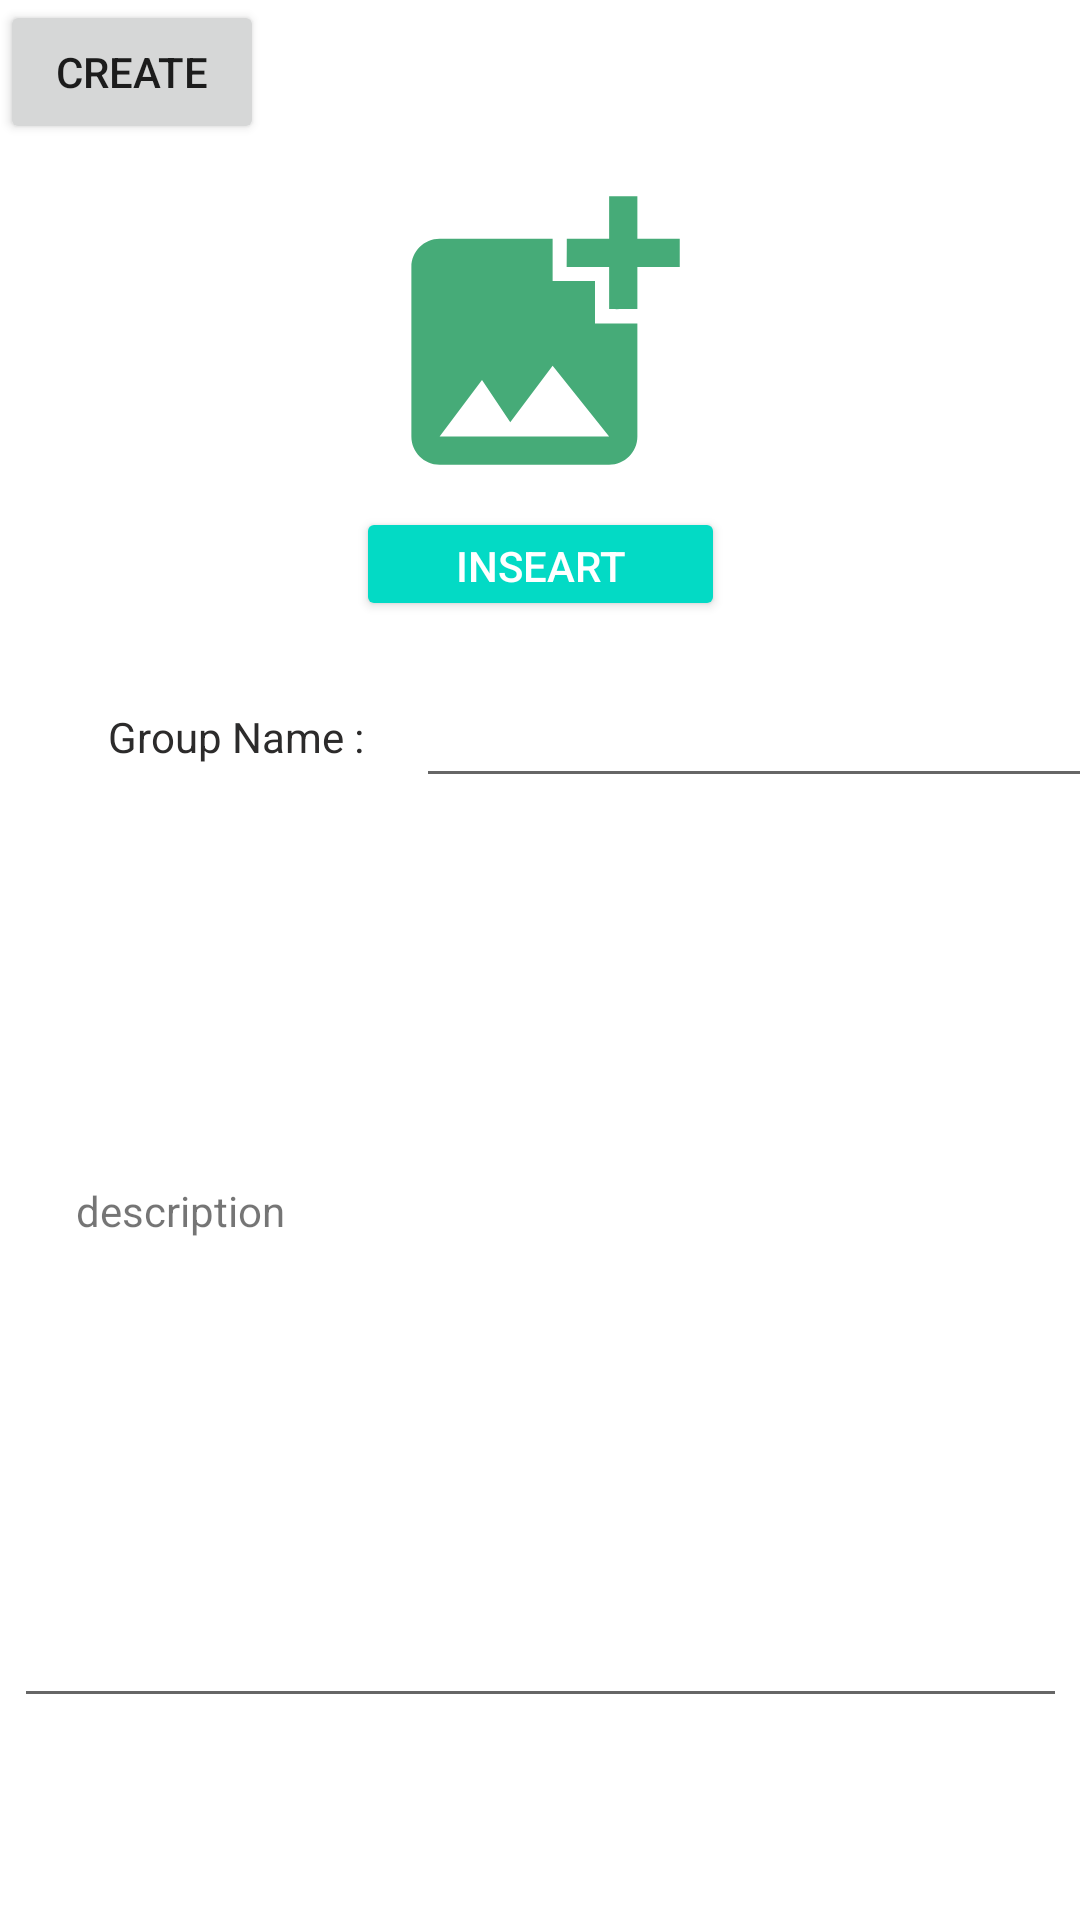

Where to tap for icons on this 1080w x 1920h app screen, as [x,y]:
add photo alternate: [545,330]
